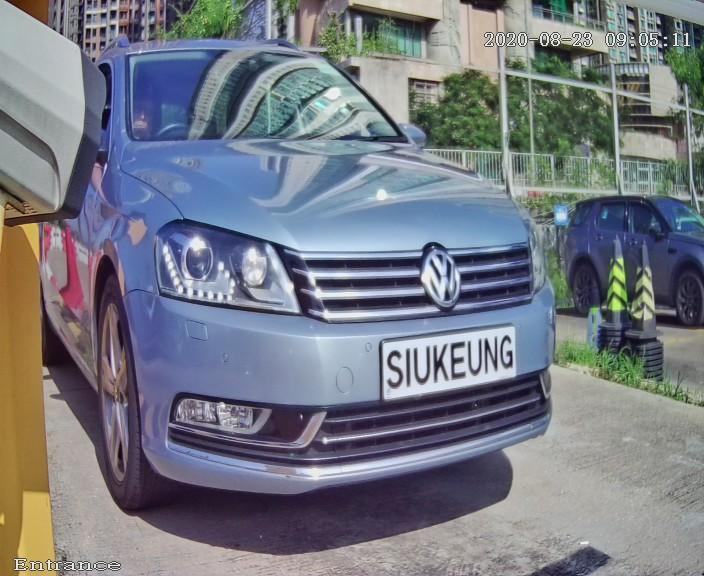Car: (10, 8, 626, 548)
License Plate: (358, 306, 532, 419)
